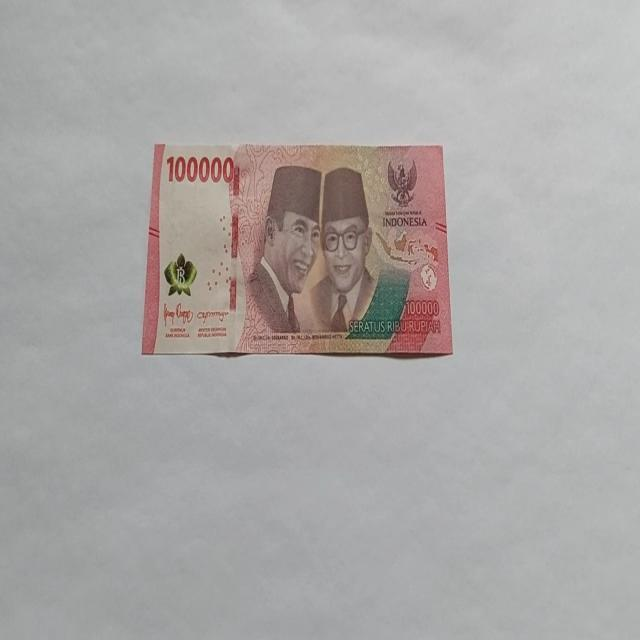seratus ribu rupiah: (140, 140, 454, 358), (248, 164, 322, 336)
